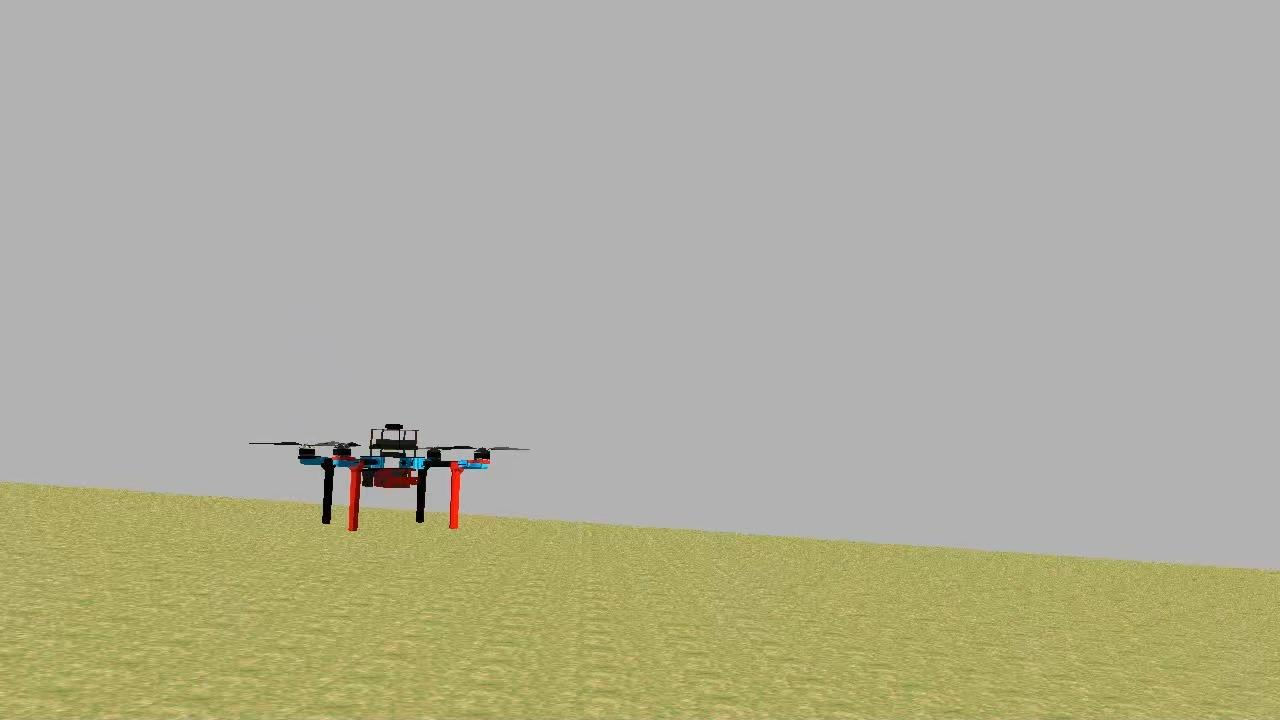UAV: (294, 417, 498, 536)
